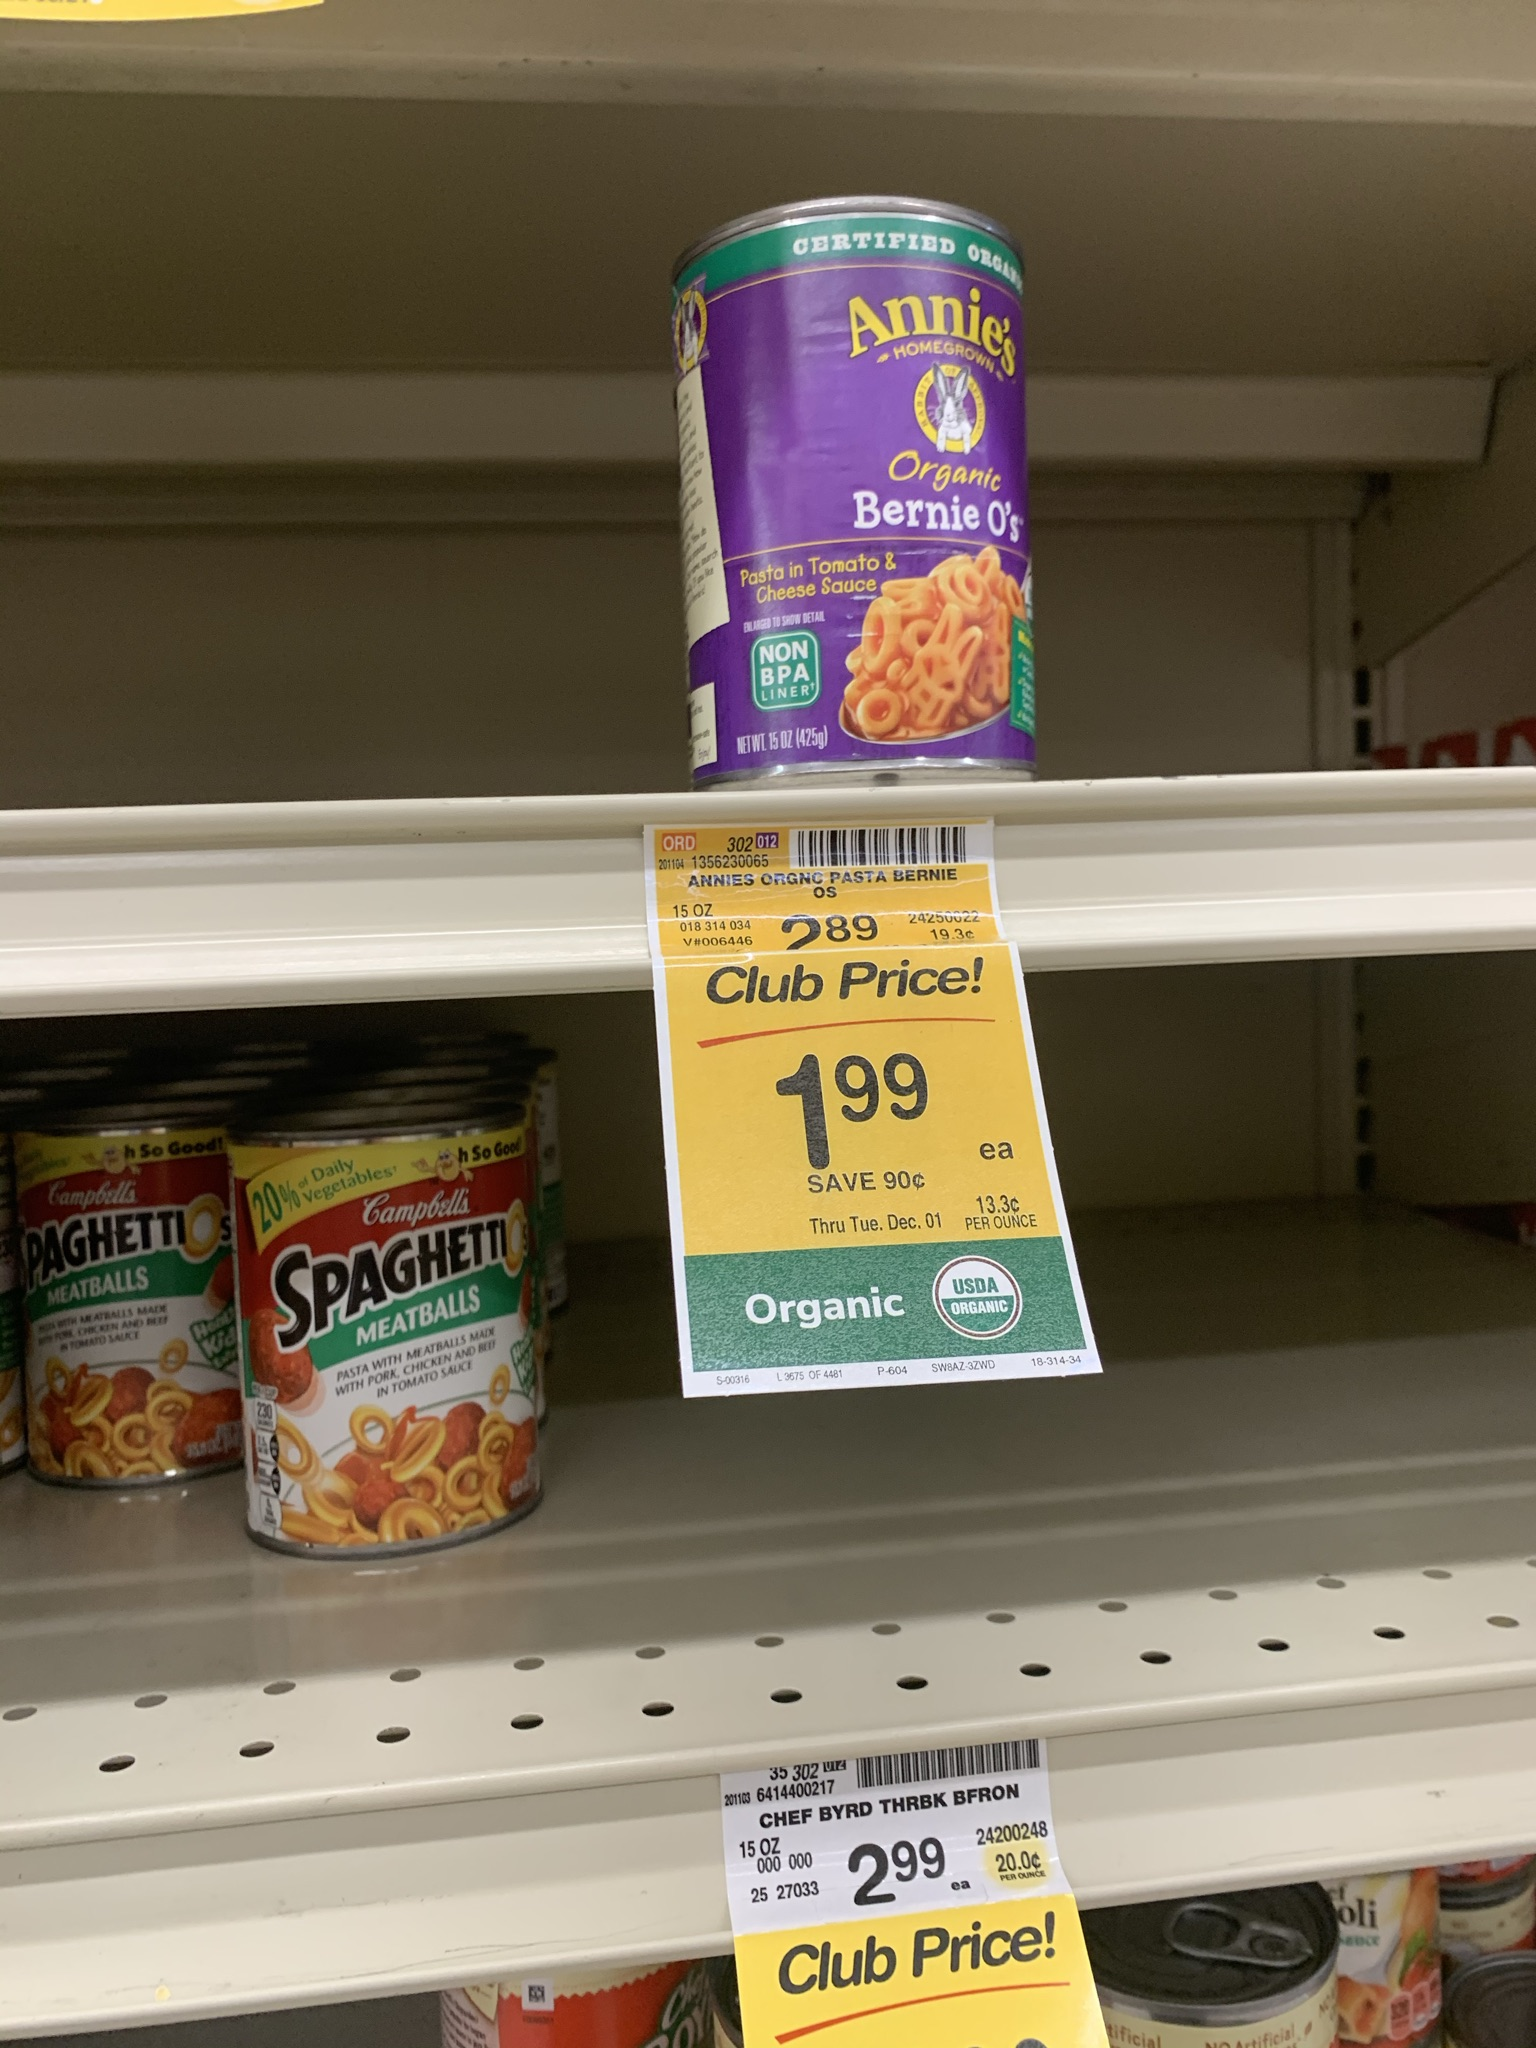can: (700, 248, 1021, 768), (250, 1142, 526, 1532), (27, 1138, 219, 1476)
